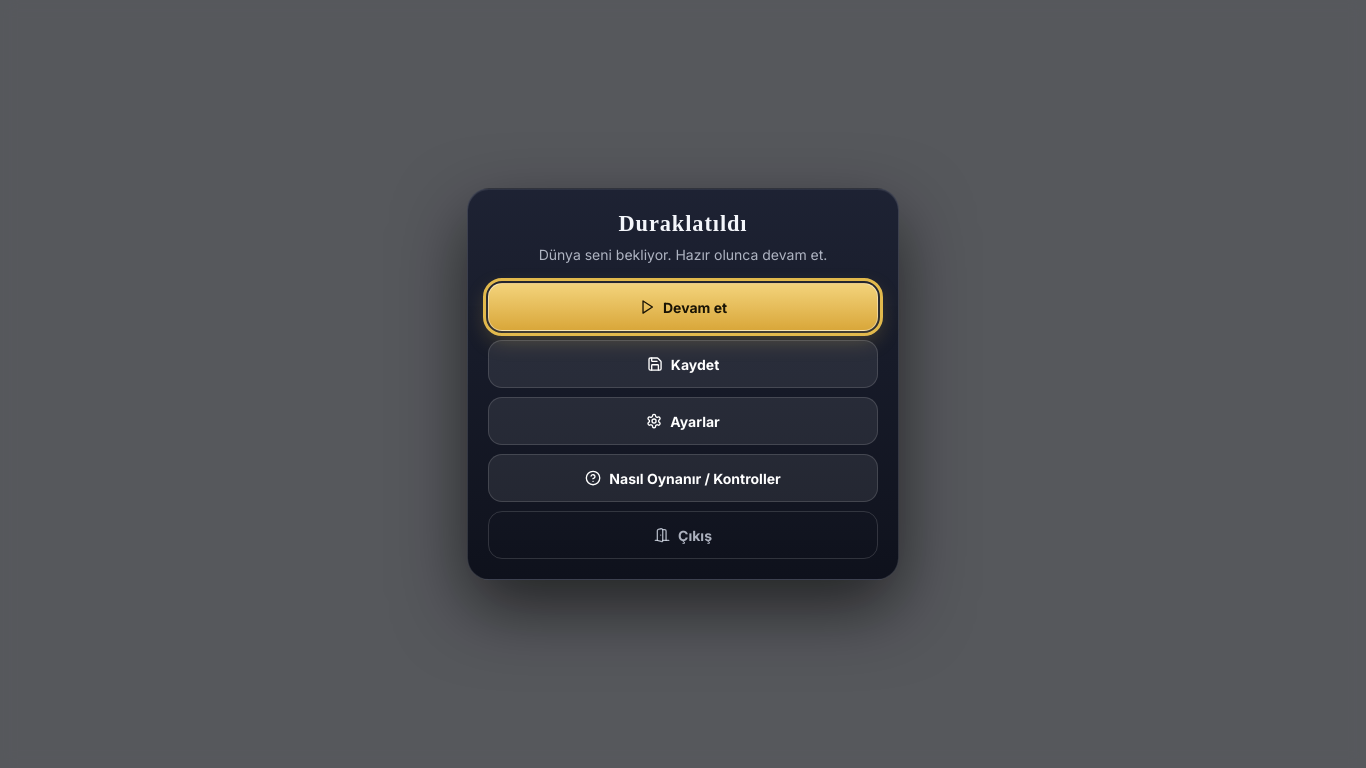
Test: Nasıl Oynanır paneli (duraklatma menüsü) › Ayarlar sayfasının en üstünde de giriş var (bildirim yolu: Esc, Ayarlar, Nasıl Oynanır); geri Ayarlar sayfasına döner
The width and height of the screenshot is (1366, 768).
Click the button "Ayarlar": coordinates (683, 421) x1=488 y1=397 x2=878 y2=445
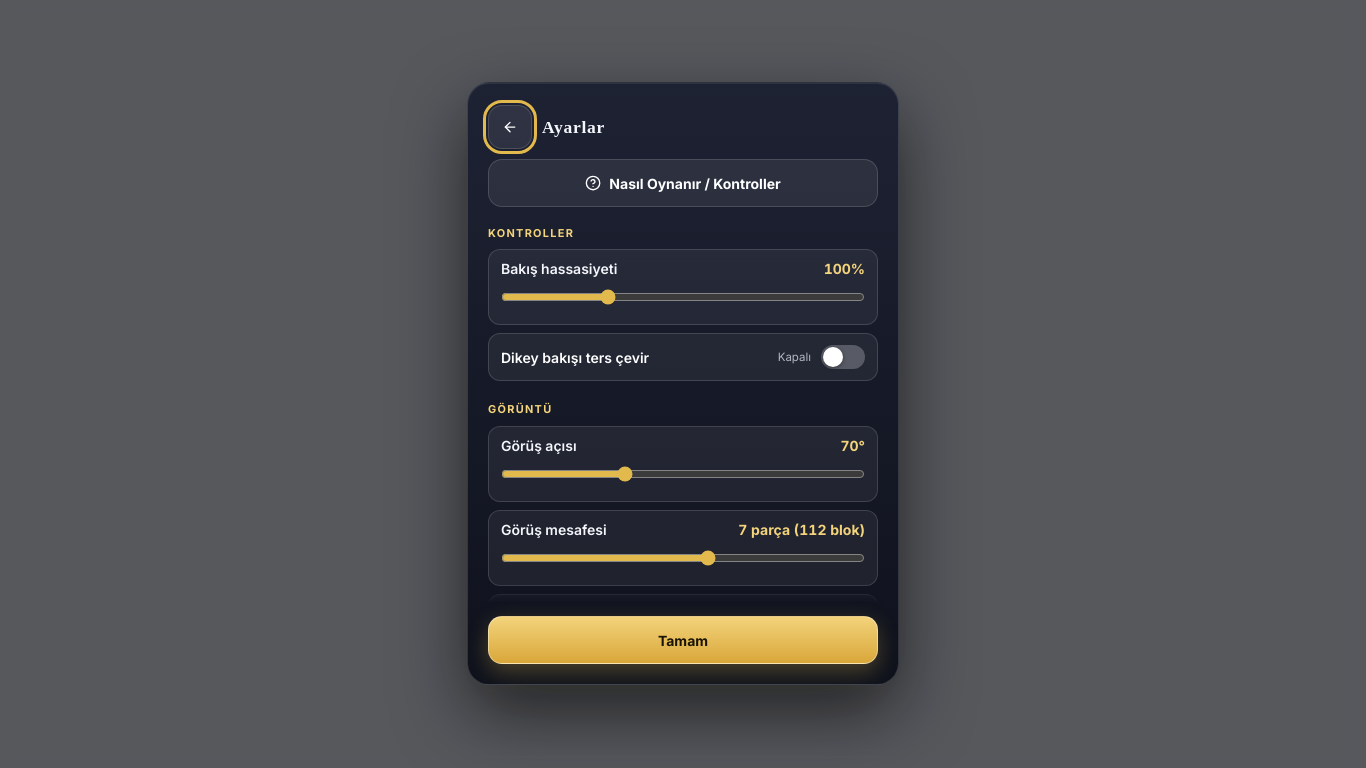
Click the button with test id "kx-settings-howto": coordinates (683, 183) x1=488 y1=159 x2=878 y2=207
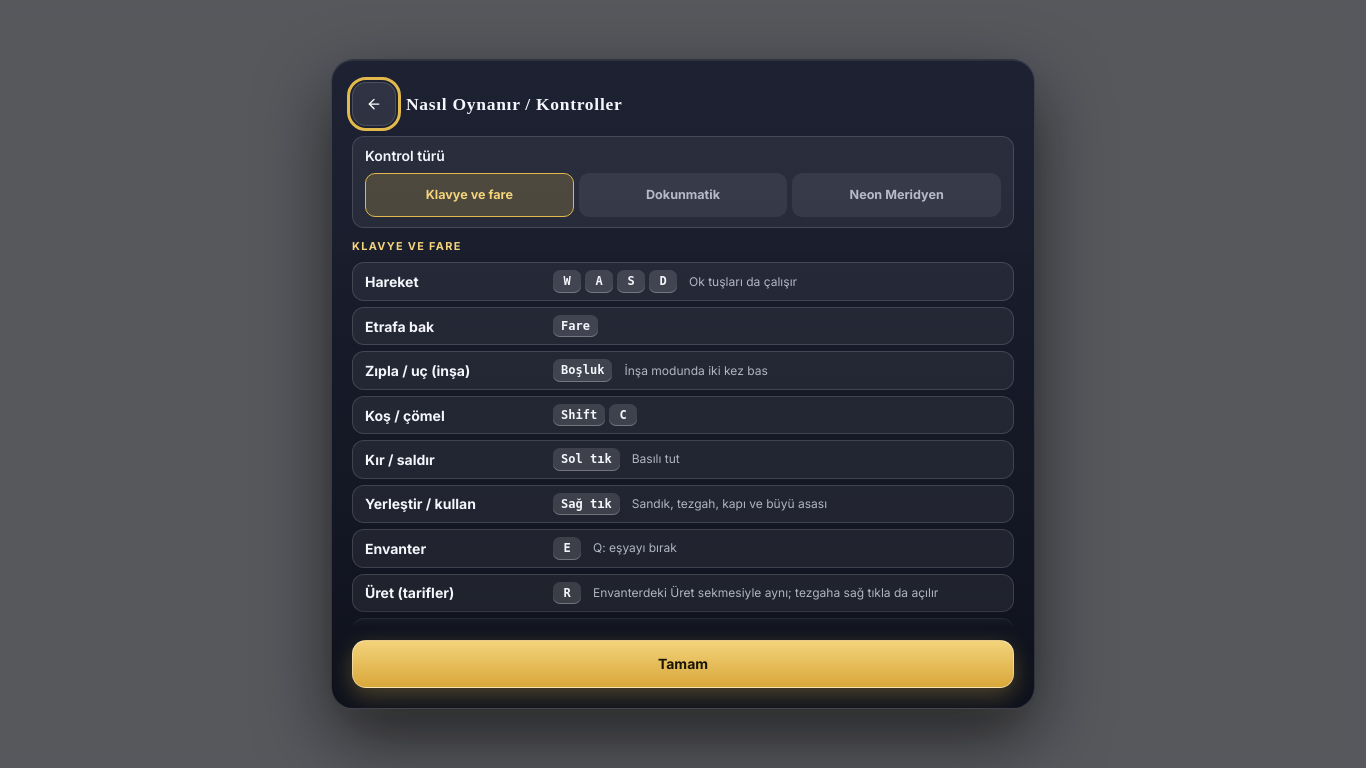
Expected: the dialog "Nasıl Oynanır / Kontroller" is shown, x1=331 y1=59 x2=1035 y2=709
Click the button named "Geri": coordinates (374, 104) x1=352 y1=82 x2=396 y2=126
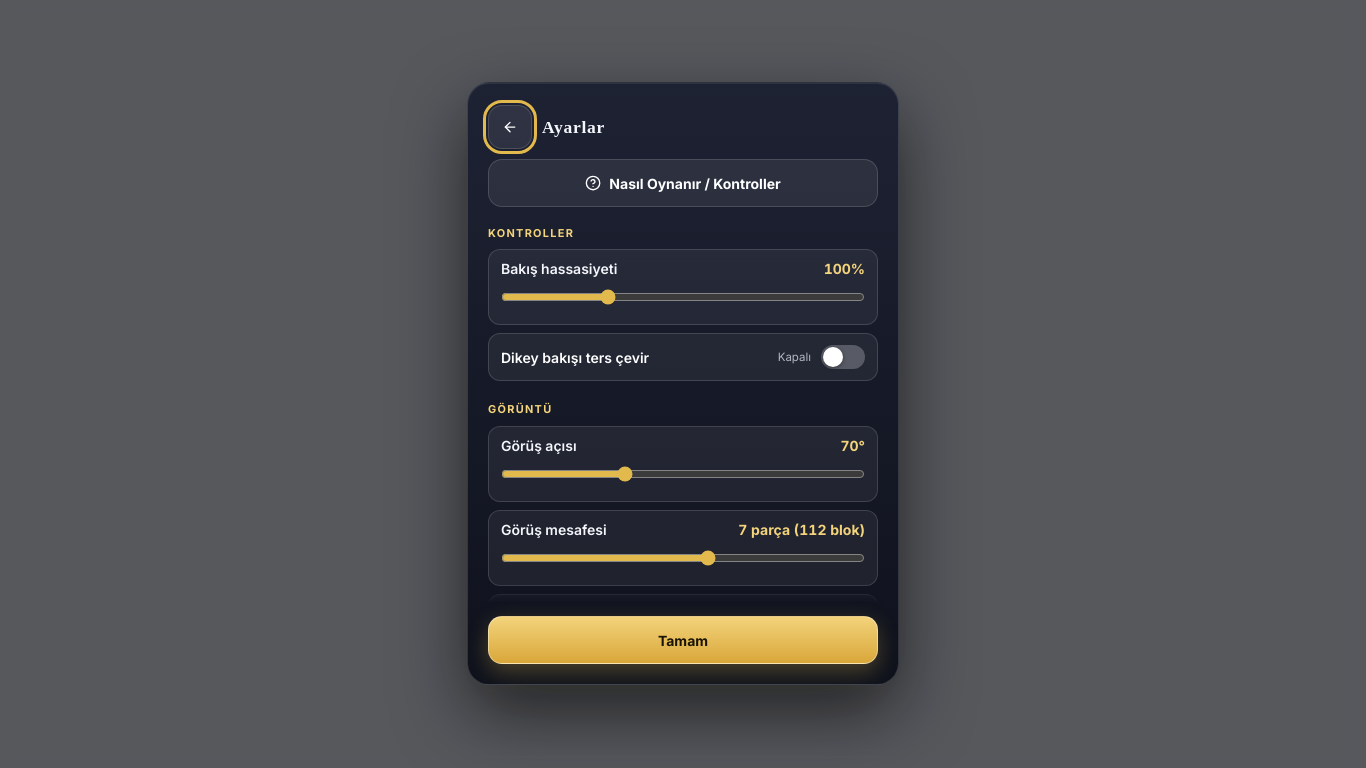
Now the dialog "Ayarlar" is shown, box x1=467 y1=82 x2=899 y2=686
